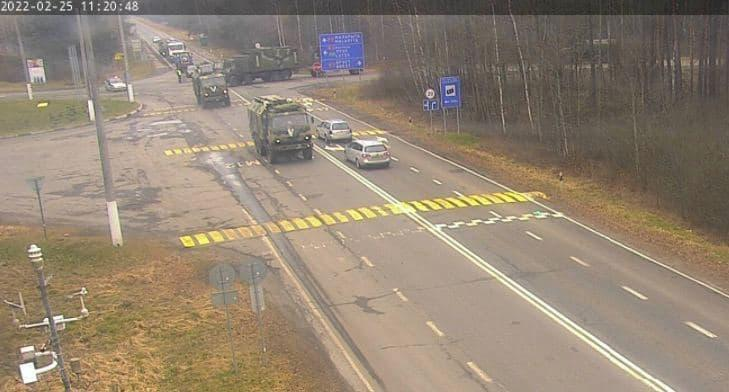car: (344, 140, 390, 167), (316, 120, 355, 142)
truck: (249, 98, 311, 164), (226, 46, 299, 88), (562, 33, 621, 66), (192, 64, 230, 108)
